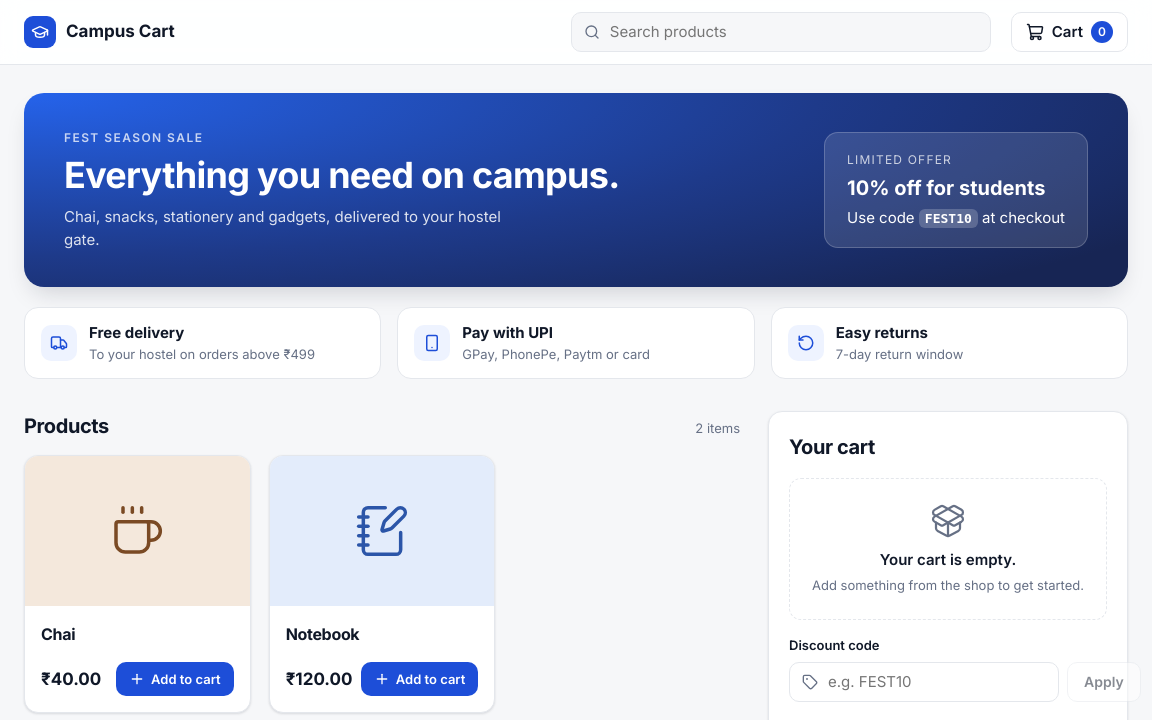
Test: App › shows which discount code is applied
In the field labelled "Discount code": (936, 682) [826,670,1046,694], type "fest10"
Then press Enter
(page scrolled)
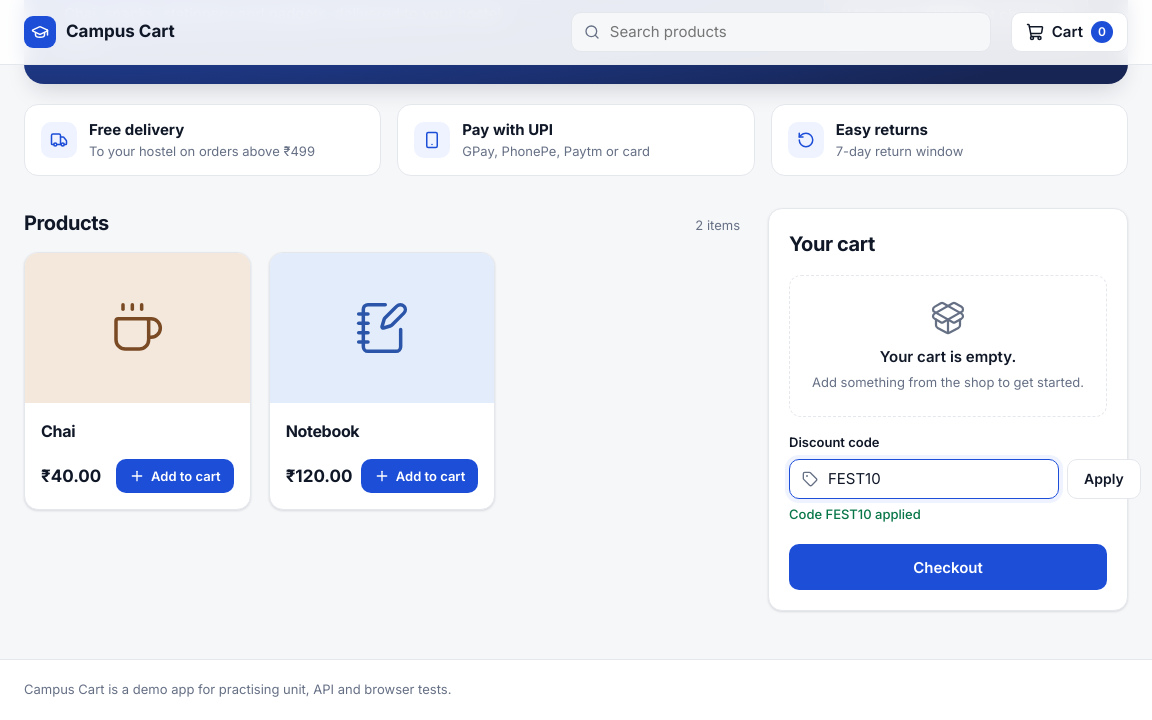
Check: the text "Code FEST10 applied" is shown, box [789,506,921,522]
